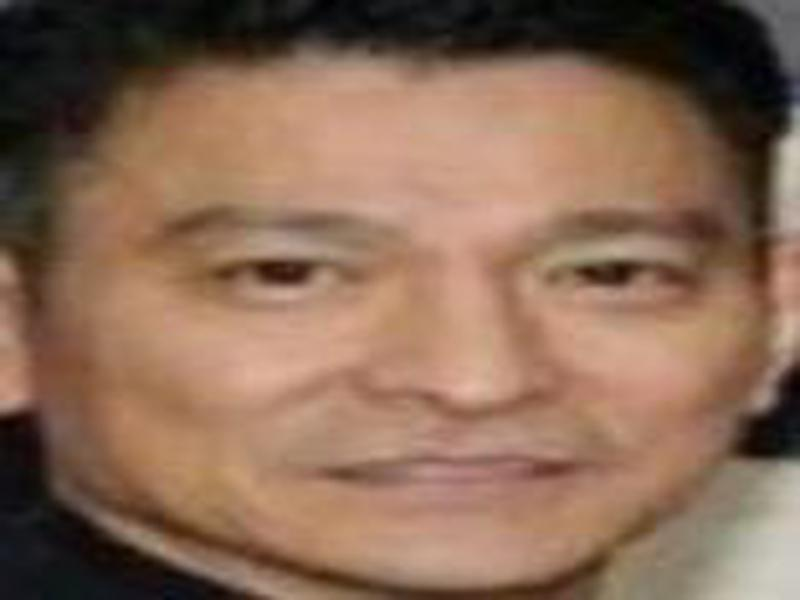without_mask: (40, 76, 756, 591)
